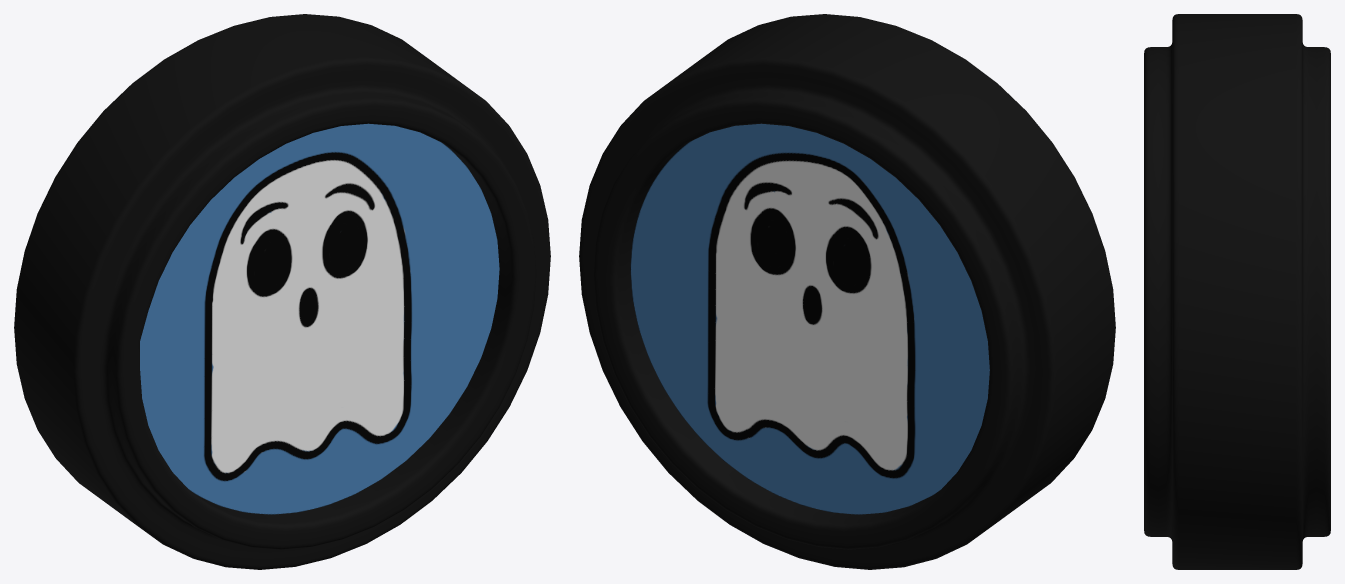
The model's file is PowerUp.fbx.
3 views of the same model, side by side, from view 1: azimuth 30°, elevation 25°; view 2: azimuth 150°, elevation 25°; view 3: azimuth 270°, elevation 25° (orthographic).
Parts seen in each view (by area): view 1: Cylinder001, Object001; view 2: Cylinder001, Object001; view 3: Cylinder001.
Boxes of the visible parts, <box> form: Cylinder001: <box>14,14,550,569</box>; Object001: <box>140,123,499,514</box>; Cylinder001: <box>579,14,1115,569</box>; Object001: <box>630,123,989,514</box>; Cylinder001: <box>1144,14,1330,569</box>.
Bounding box in the file's own units: 64.09 × 63.92 × 21.49.
Materials: 2 (1 with a texture image).
